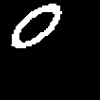chain: (12, 4, 61, 47)
